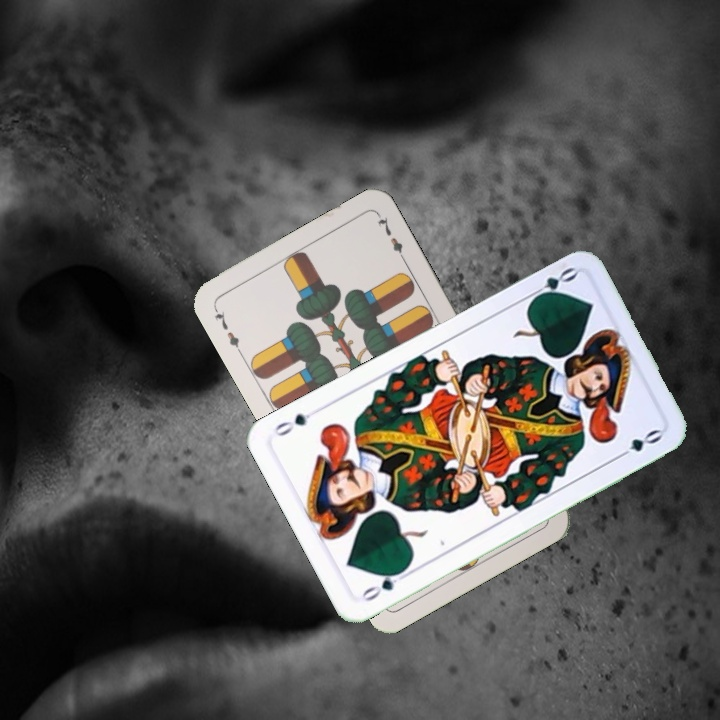E7: (209, 303, 245, 357)
GO: (524, 263, 580, 305), (356, 564, 412, 604)
